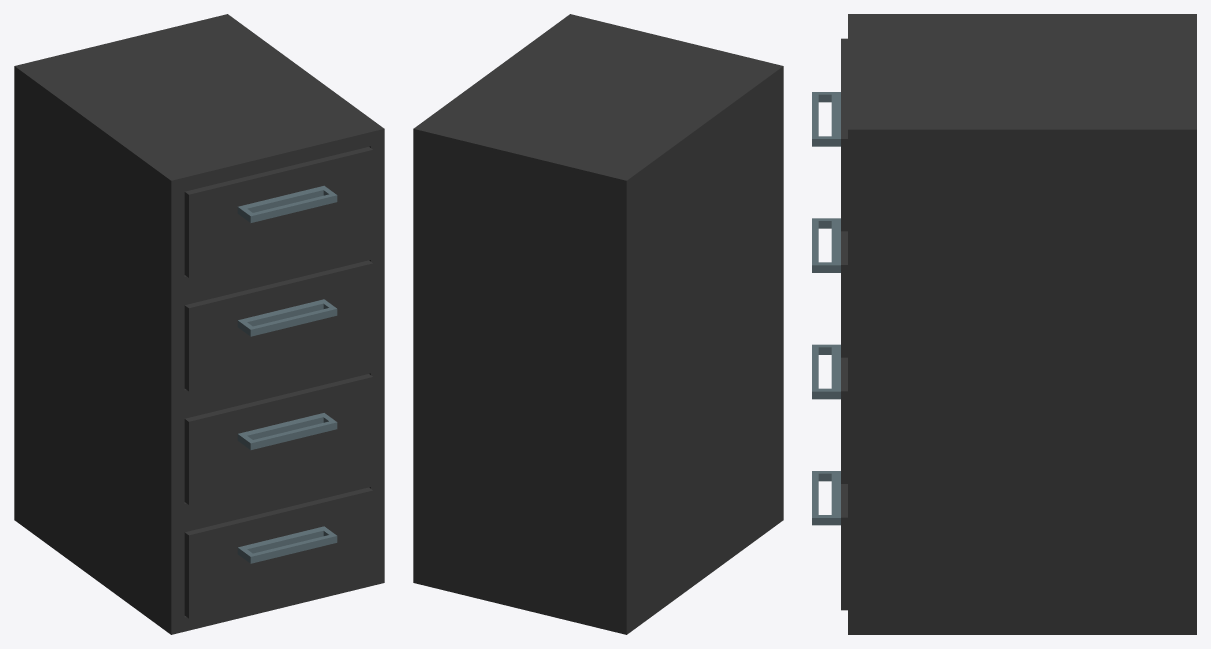
Rendered from CabinetLargeV1Black.fbx.
3 renders of one model, left to right at view 1: azimuth 30°, elevation 25°; view 2: azimuth 150°, elevation 25°; view 3: azimuth 270°, elevation 25°, orthographic. The views are drawn at different scales.
Parts seen in each view (by area): view 1: CabinetLargeV1Black, CabinetLargeV1Black_Drawer4, CabinetLargeV1Black_Drawer3, CabinetLargeV1Black_Drawer2, CabinetLargeV1Black_Drawer1; view 2: CabinetLargeV1Black; view 3: CabinetLargeV1Black, CabinetLargeV1Black_Drawer1, CabinetLargeV1Black_Drawer3, CabinetLargeV1Black_Drawer4, CabinetLargeV1Black_Drawer2.
Part boxes in pixels (x1,y1,x2,y2): CabinetLargeV1Black: (14,14,384,634); CabinetLargeV1Black_Drawer4: (184,487,373,618); CabinetLargeV1Black_Drawer3: (184,374,373,504); CabinetLargeV1Black_Drawer2: (184,260,373,391); CabinetLargeV1Black_Drawer1: (184,147,373,277); CabinetLargeV1Black: (413,14,783,634); CabinetLargeV1Black: (848,14,1196,634); CabinetLargeV1Black_Drawer1: (812,38,847,231); CabinetLargeV1Black_Drawer3: (812,344,847,483); CabinetLargeV1Black_Drawer4: (812,471,847,610); CabinetLargeV1Black_Drawer2: (812,218,847,357).
Bounding box in the file's own units: 39.32 × 80 × 55.23.
